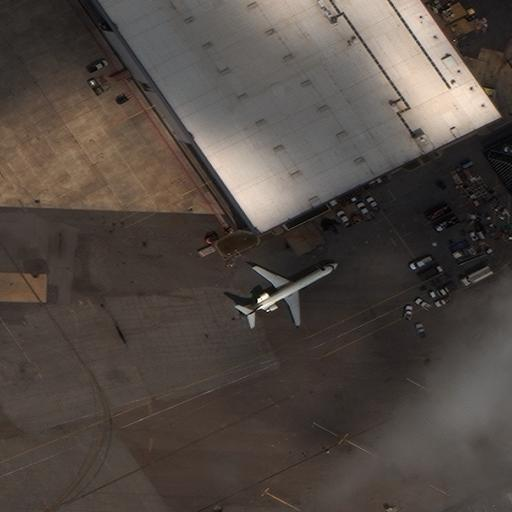Medium Civil Transport: (242, 262, 340, 324)
